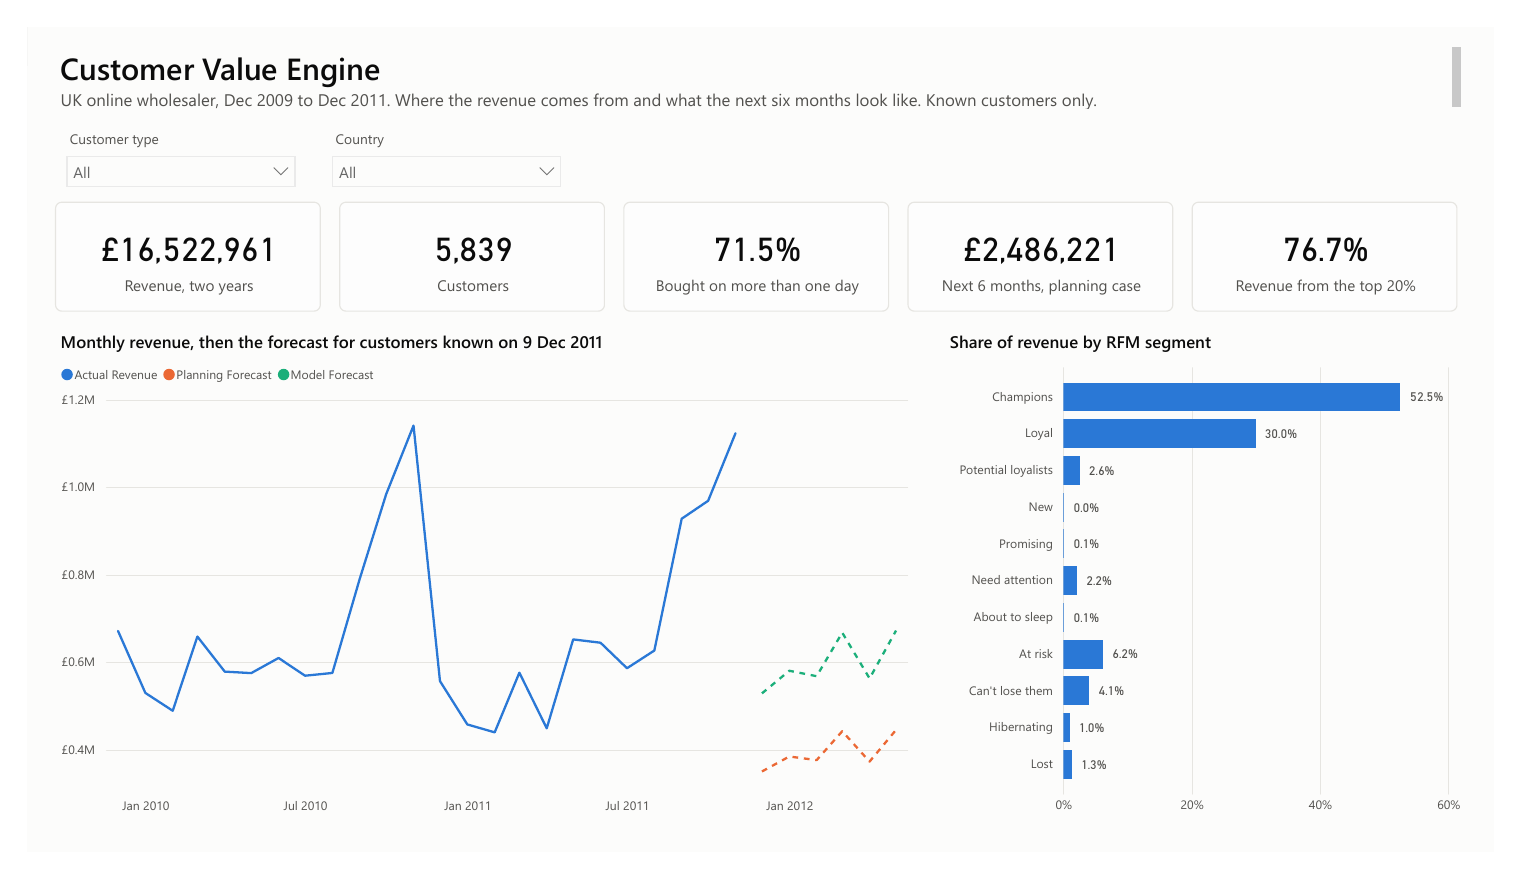

The dashboard page shown, as its layout file describes it:
{"tool":"powerbi","page":{"name":"Overview","canvas":[1280,720],"ordinal":0},"visuals":[{"type":"textbox","box":[24,12,1232,64],"z":0},{"type":"slicer","title":"Customer type","fields":{"Values":["dim_customer.Customer Type"]},"box":[24,84,220,56],"z":1000},{"type":"slicer","title":"Country","fields":{"Values":["dim_customer.Country"]},"box":[256,84,220,56],"z":2000},{"type":"card","title":"Revenue, two years","fields":{"Values":["_Measures.Revenue"]},"box":[24,152,232,96],"z":3000},{"type":"card","title":"Customers","fields":{"Values":["_Measures.Customers"]},"box":[272,152,232,96],"z":4000},{"type":"card","title":"Bought on more than one day","fields":{"Values":["_Measures.Repeat Customer Rate"]},"box":[520,152,232,96],"z":5000},{"type":"card","title":"Next 6 months, planning case","fields":{"Values":["_Measures.Planning Value 26w"]},"box":[768,152,232,96],"z":6000},{"type":"card","title":"Revenue from the top 20%","fields":{"Values":["_Measures.Top 20% Revenue Share"]},"box":[1016,152,232,96],"z":7000},{"type":"lineChart","title":"Monthly revenue, then the forecast for customers known on 9 Dec 2011","fields":{"Category":["fact_month.Month Start"],"Y":["_Measures.Actual Revenue","_Measures.Planning Forecast","_Measures.Model Forecast"]},"box":[24,264,760,432],"z":8000},{"type":"clusteredBarChart","title":"Share of revenue by RFM segment","fields":{"Category":["dim_segment.Segment"],"Y":["_Measures.Revenue Share of Total"]},"box":[800,264,456,432],"z":9000}]}

Visuals, with their boxes in screenshot pixels (x1, y1, x2, y2), scaled from the page's 1280x720 canvas onto the 1522x880 screenshot:
textbox: [29, 15, 1493, 93]
"Customer type" slicer: [29, 103, 290, 171]
"Country" slicer: [304, 103, 566, 171]
"Revenue, two years" card: [29, 186, 304, 303]
"Customers" card: [323, 186, 599, 303]
"Bought on more than one day" card: [618, 186, 894, 303]
"Next 6 months, planning case" card: [913, 186, 1189, 303]
"Revenue from the top 20%" card: [1208, 186, 1484, 303]
"Monthly revenue, then the forecast for customers known on 9 Dec 2011" lineChart: [29, 323, 932, 851]
"Share of revenue by RFM segment" clusteredBarChart: [951, 323, 1493, 851]
